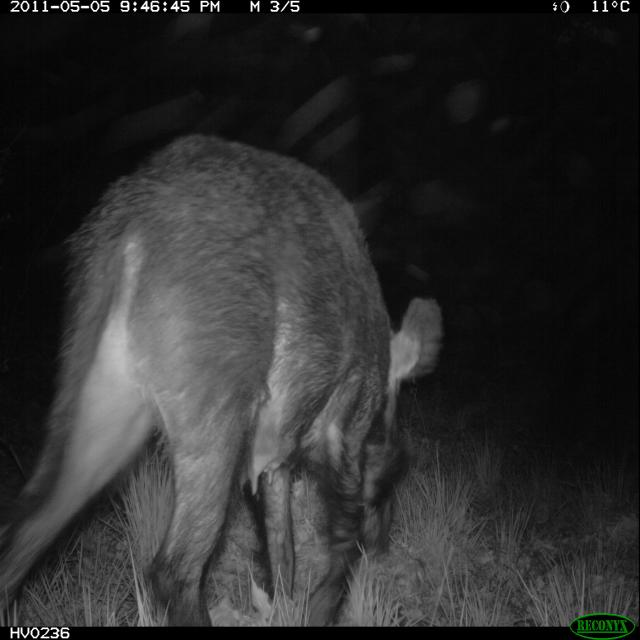boar: (0, 96, 478, 623)
